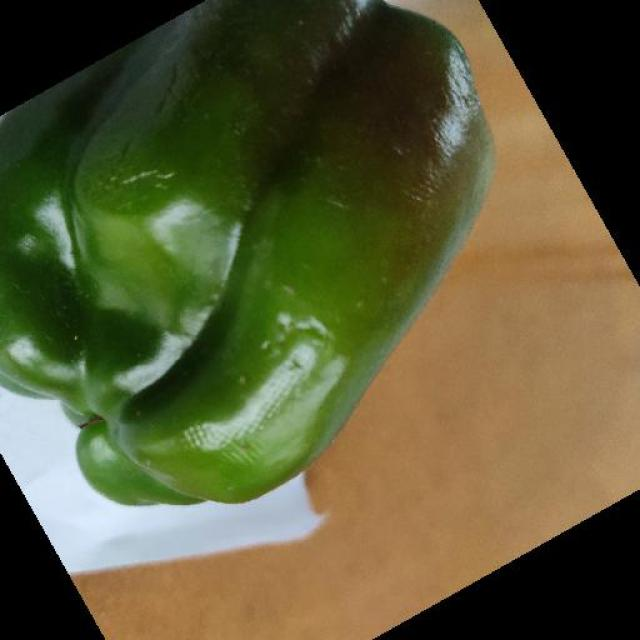Stale_Capsicum: (234, 0, 504, 252)
